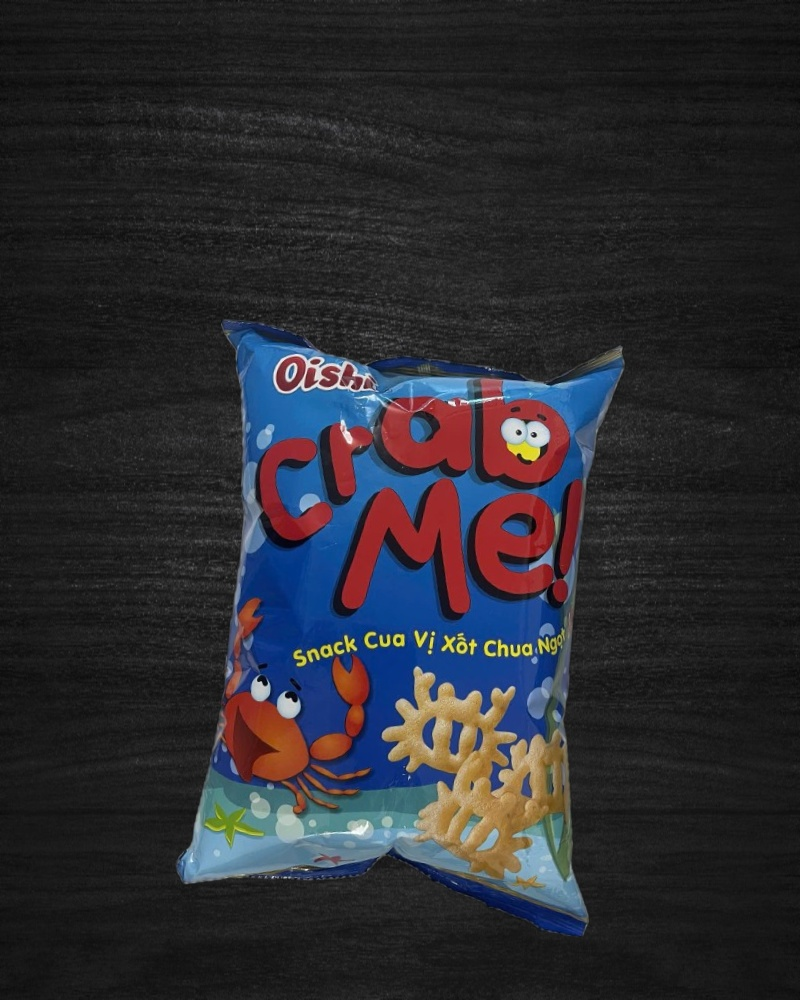Snack chay: (171, 311, 639, 940)
